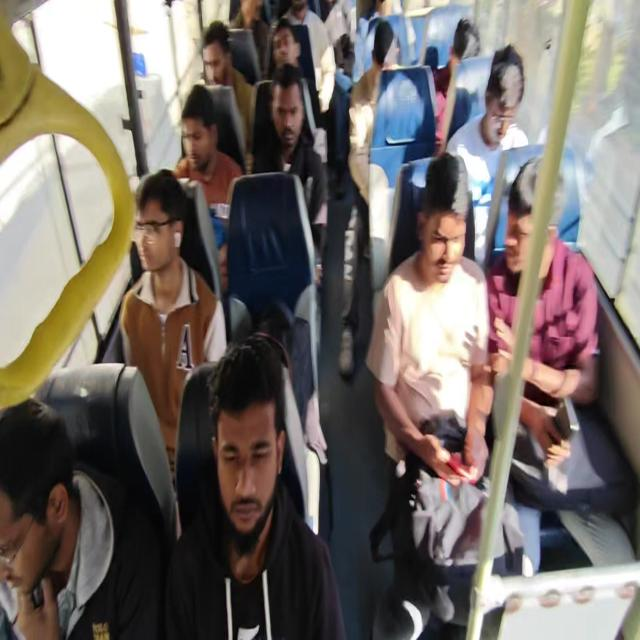person: (0, 400, 81, 611), (215, 378, 275, 545), (505, 170, 559, 276), (126, 199, 186, 284), (424, 168, 466, 273), (268, 82, 318, 170), (483, 54, 523, 146), (162, 94, 214, 154), (356, 28, 398, 90), (440, 25, 480, 90), (200, 42, 243, 82), (268, 27, 310, 66)
